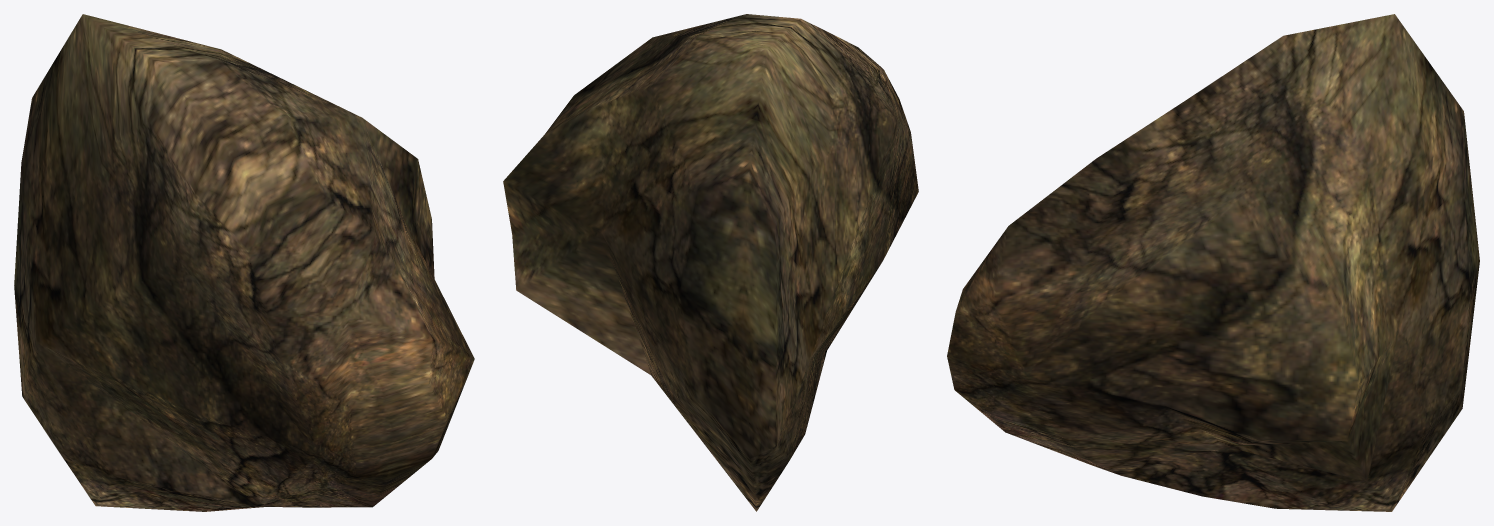
File: stone_04.obj
3 views of the same model, side by side, from view 1: azimuth 30°, elevation 25°; view 2: azimuth 150°, elevation 25°; view 3: azimuth 270°, elevation 25° (orthographic). The views are drawn at different scales.
Parts seen in each view (by area): view 1: (null); view 2: (null); view 3: (null).
Boxes of the visible parts, x1,y1,x2,y2 form: (null): (14, 14, 474, 511); (null): (503, 14, 918, 511); (null): (947, 14, 1479, 511).
Bounding box in the file's own units: 2.41 × 3.32 × 3.26.
